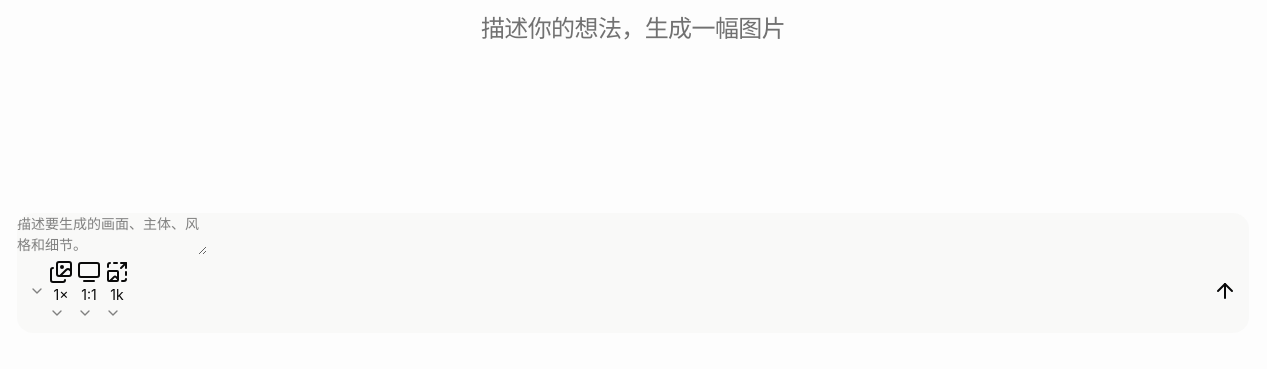
Test: 创作台图像面板 › 生成失败展示接口错误文案
The width and height of the screenshot is (1267, 369).
Type "一只猫" into the text box with test id "image-prompt" at x=112, y=234, box x1=17 y1=213 x2=207 y2=255
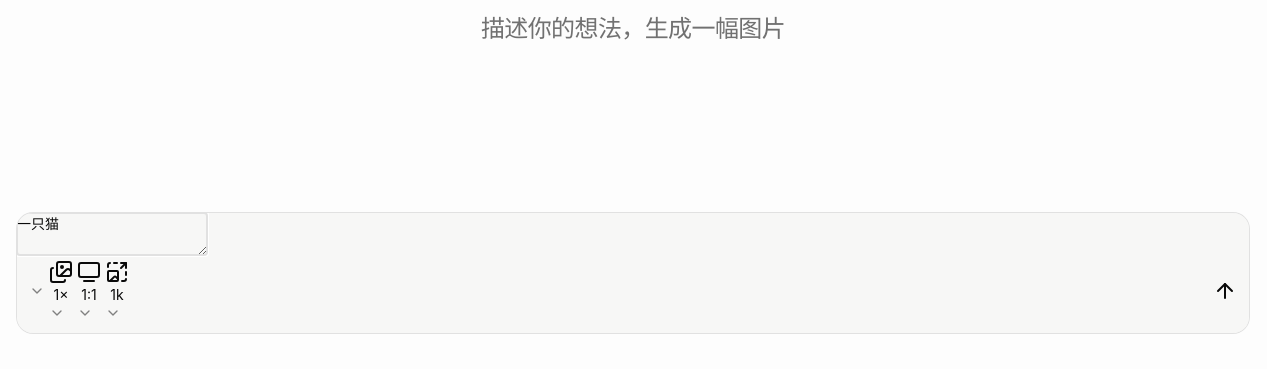
Click the button with test id "image-generate" at x=1225, y=290, box x1=1213 y1=278 x2=1237 y2=302
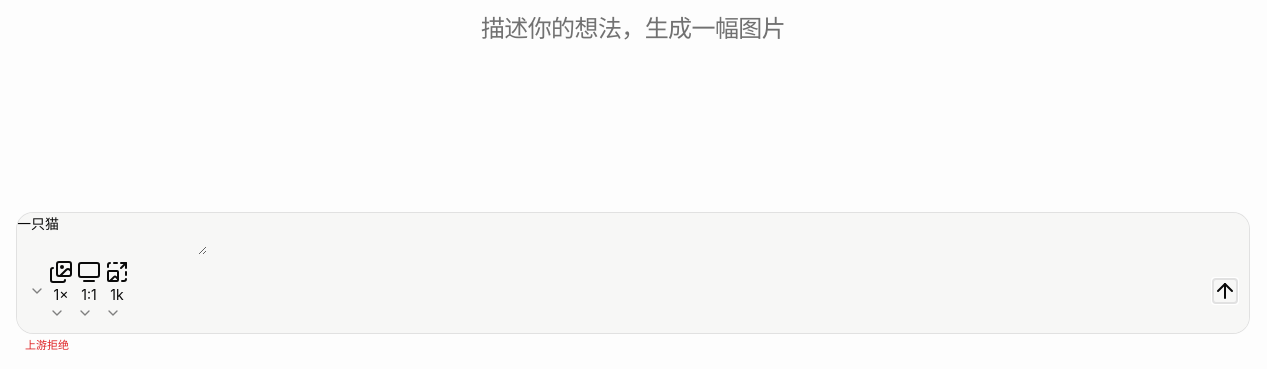
expect the text with test id "image-error" reads "上游拒绝": met, box x1=25 y1=338 x2=69 y2=352
